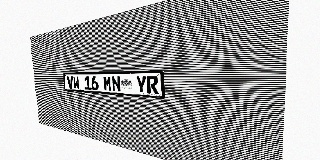plate: (63, 71, 165, 98)
